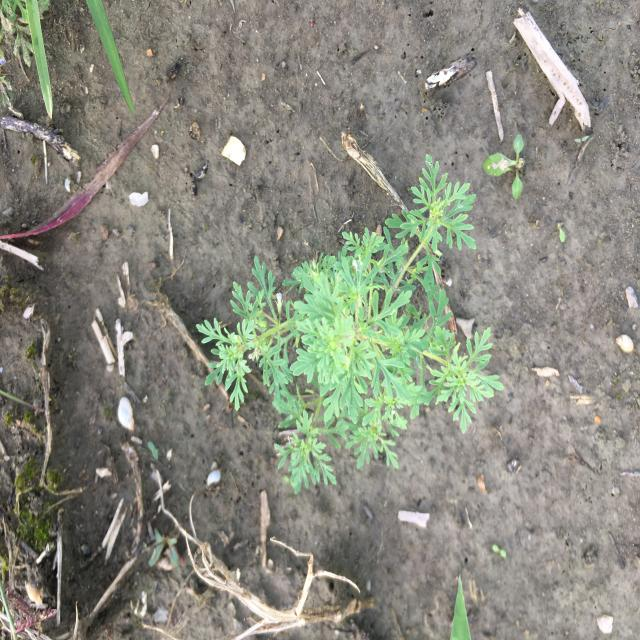Ragweed: (194, 150, 506, 498)
